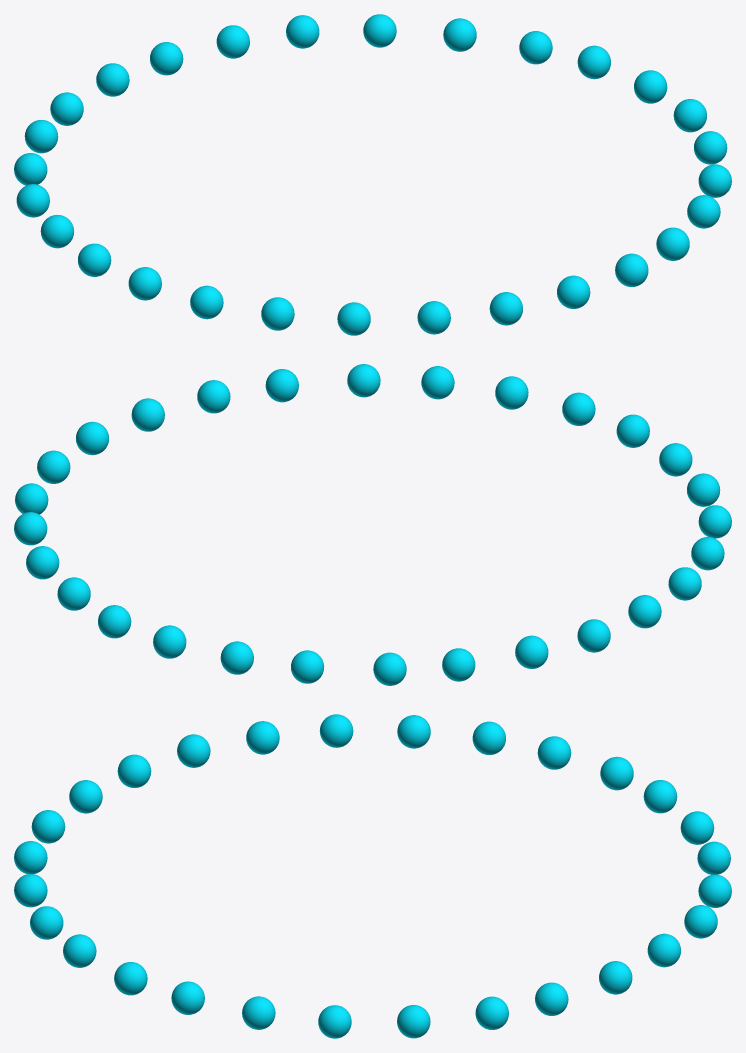
3 views of the same model, one above another, from view 1: azimuth 30°, elevation 25°; view 2: azimuth 150°, elevation 25°; view 3: azimuth 270°, elevation 25° (orthographic).
Parts seen in each view (by area): view 1: Sphere050; view 2: Sphere050; view 3: Sphere050.
Part boxes in pixels (box(x1,y1,x2,y2)): Sphere050: box(14, 14, 731, 335); Sphere050: box(14, 364, 731, 685); Sphere050: box(14, 714, 731, 1038).
Bounding box in the file's own units: 177 × 8.22 × 176.
